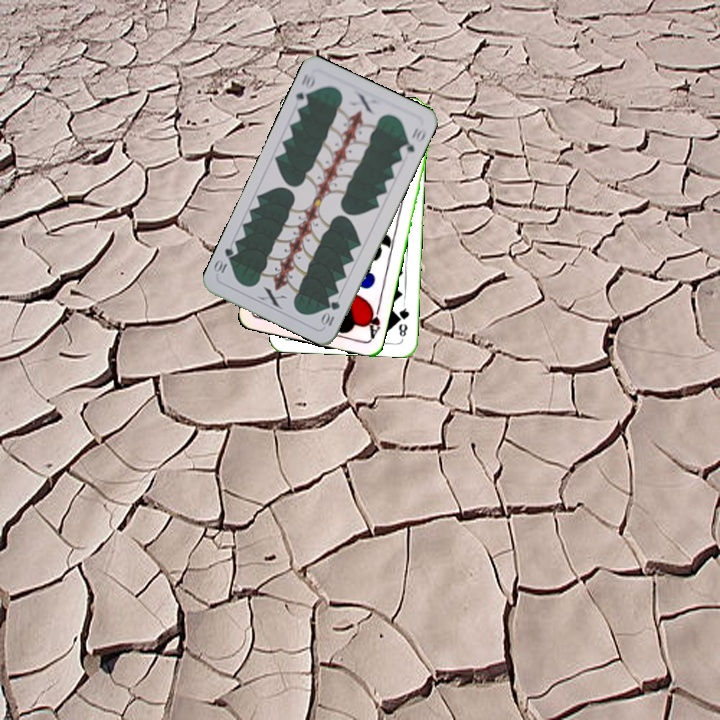G10: (291, 69, 318, 110), (318, 296, 343, 329)
G8: (394, 300, 412, 339)
HA: (362, 301, 383, 342)
